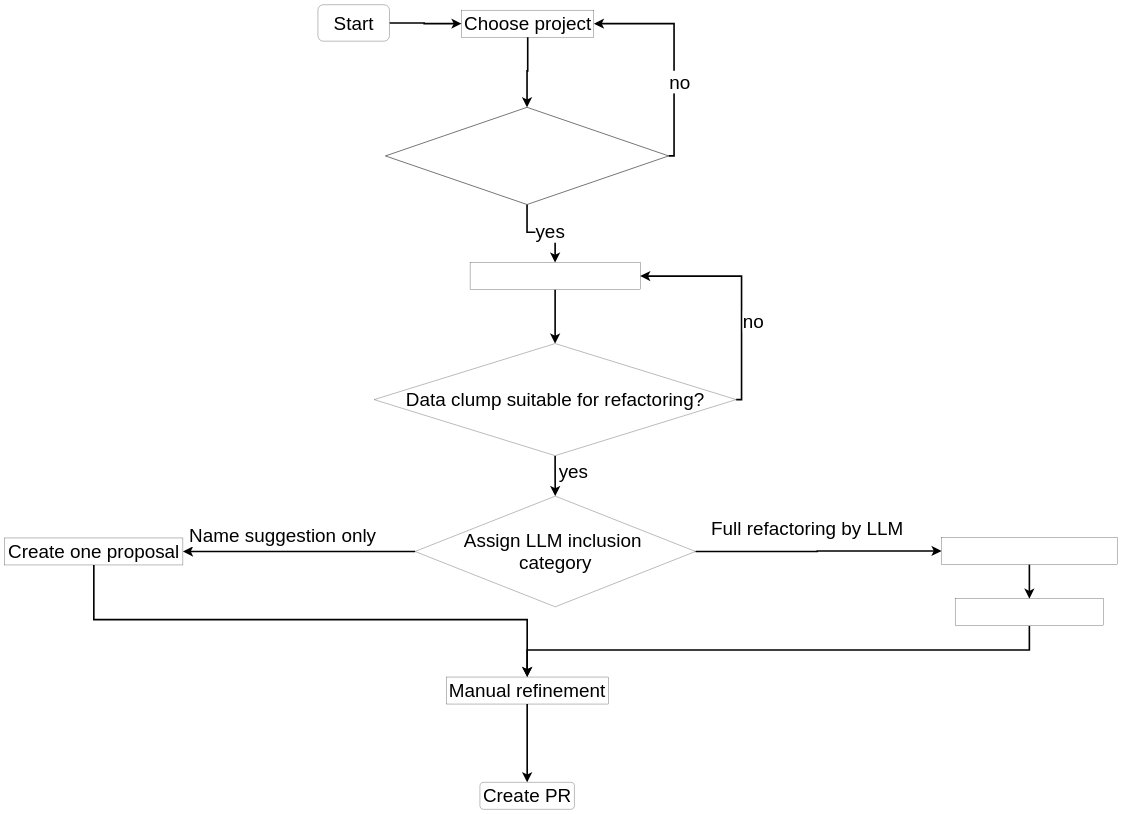
The diagram is 1122 pixels wide and 814 high, and some of its shapes have lost their labels. The shapes that lost their labels are listed below. From the top down, each one's centre as x and y in pixels, then its label:
At pixel 527 156: "Does project fulfill criteria?".
At pixel 555 276: "Choose data clump".
At pixel 1029 550: "Create 10 proposals".
At pixel 1029 612: "Choose proposal".
